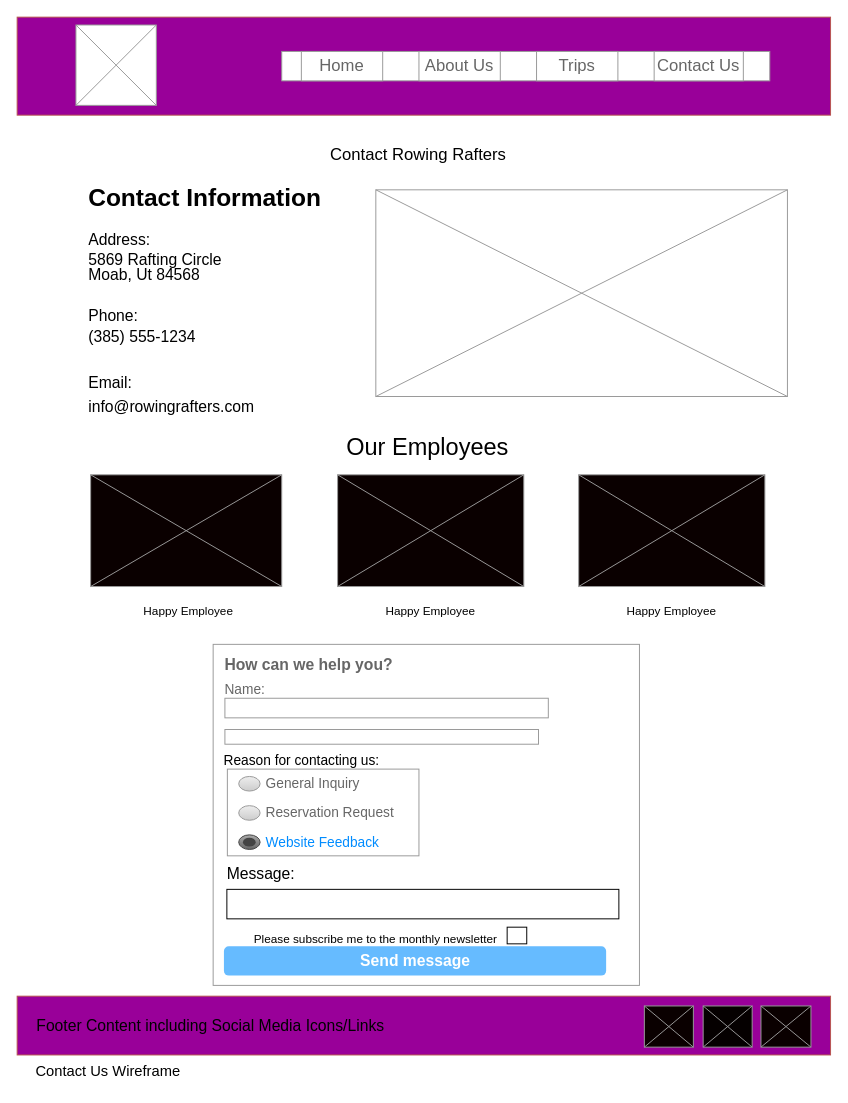
The diagram is 848 pixels wide and 1103 high, and some of its shapes have lost their labels. The shapes that lost their labels are listed below. From the top down, each one's centre as x and y in pixels, then its label:
(x=581, y=293): Google Map showing office location
(x=246, y=719): E-Mail:
